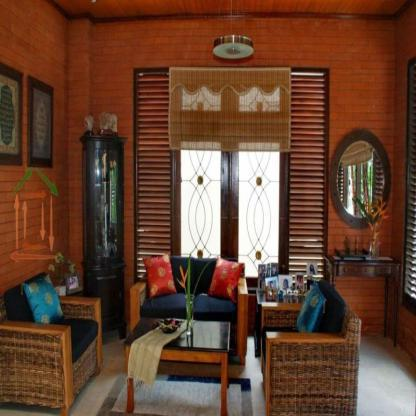bantal: (24, 278, 64, 322), (143, 255, 176, 294), (296, 287, 322, 332), (211, 260, 234, 298)
kursi: (2, 278, 105, 414), (258, 278, 361, 414)
meja: (120, 314, 234, 415)
